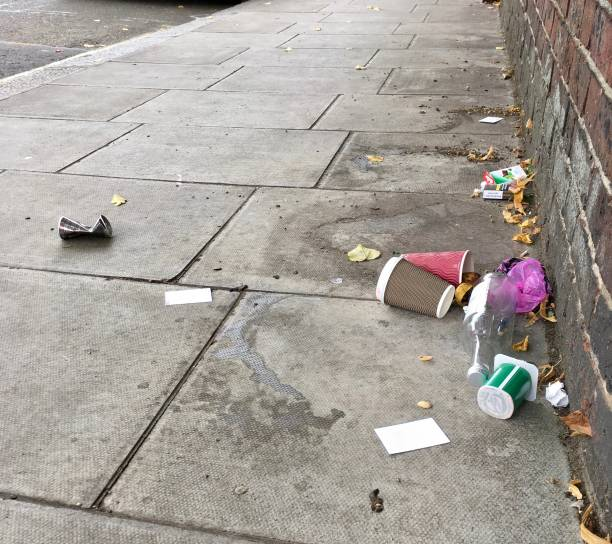General waste: (534, 346, 601, 540), (474, 33, 544, 146), (501, 176, 547, 252), (344, 474, 406, 514), (99, 187, 143, 209), (348, 238, 380, 266), (356, 143, 384, 170)
paper: (378, 247, 473, 326), (354, 408, 462, 461), (47, 211, 118, 256), (134, 283, 234, 312), (480, 158, 531, 209)
plastic: (459, 252, 526, 397), (490, 247, 564, 328), (471, 351, 547, 424)
